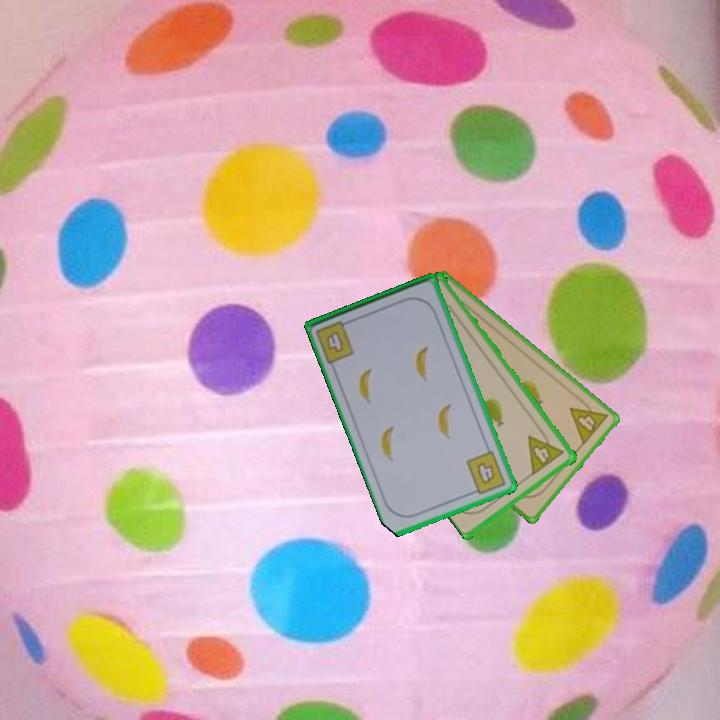4b: (463, 447, 509, 498), (312, 316, 357, 366)
4p: (566, 394, 611, 448), (524, 425, 568, 477)
